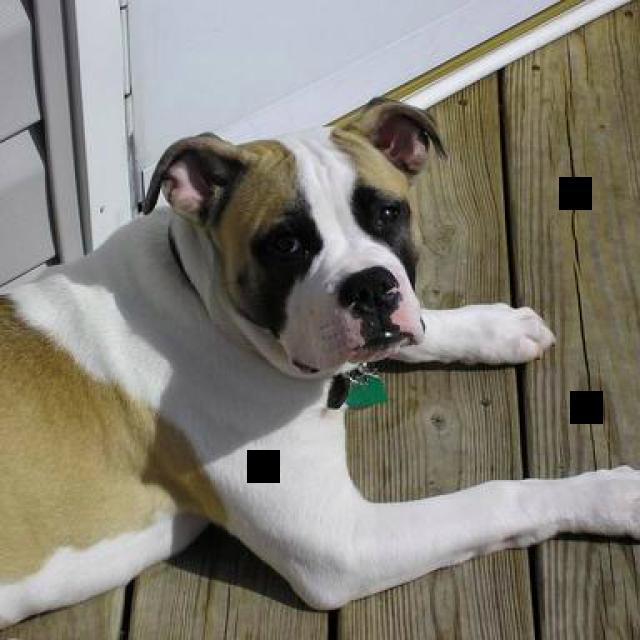adult_dog: (1, 97, 640, 628)
